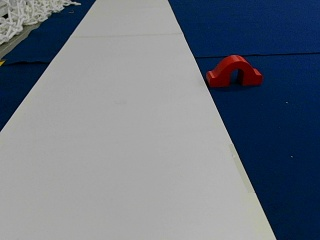bridge: (208, 55, 262, 85)
